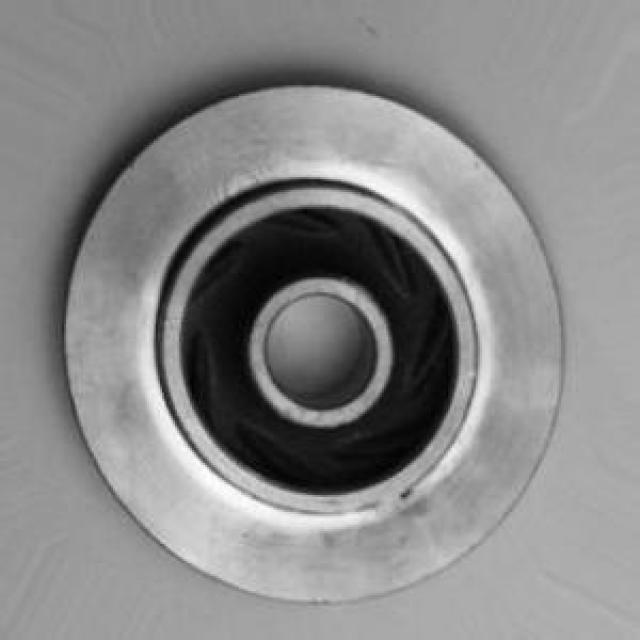Defect: (390, 474, 420, 511)
